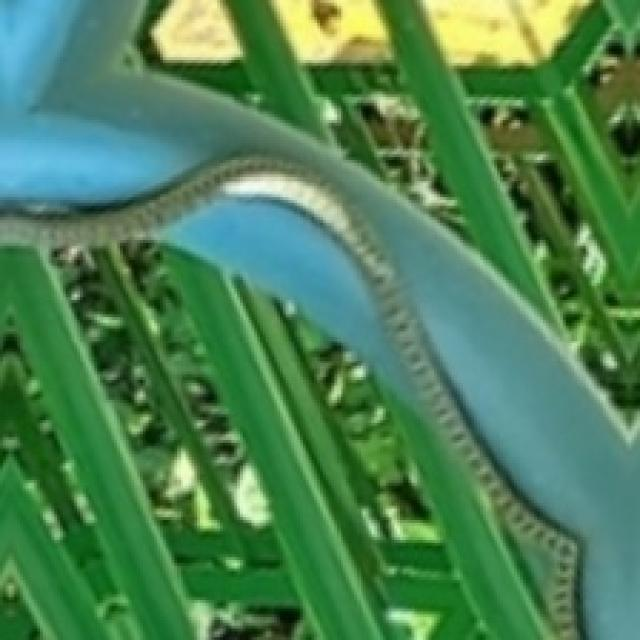paradise tree snake: (0, 0, 637, 637), (0, 154, 583, 637), (0, 246, 189, 637), (189, 269, 374, 606), (463, 523, 546, 637)
